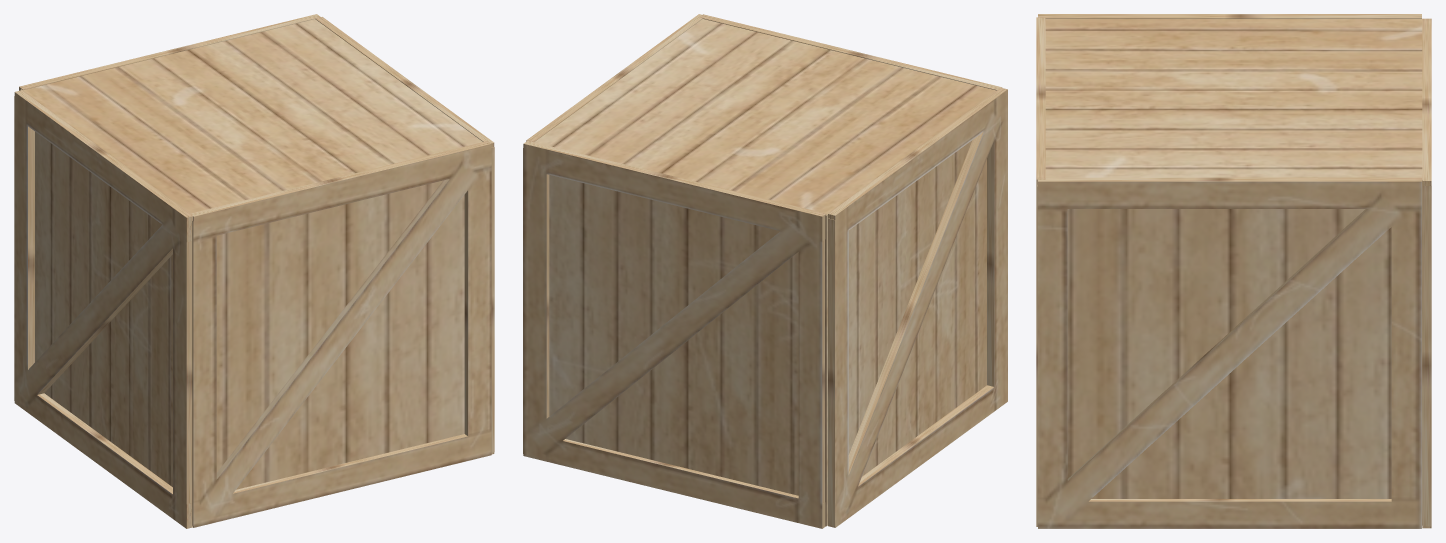
Rendered from Crate.fbx.
3 renders of one model, left to right at view 1: azimuth 30°, elevation 25°; view 2: azimuth 150°, elevation 25°; view 3: azimuth 270°, elevation 25°, orthographic. The views are drawn at different scales.
Visible parts, largest first — view 1: side5; view 2: side5; view 3: side5.
Boxes of the visible parts, <box> form: side5: <box>14,14,494,528</box>; side5: <box>523,14,1007,528</box>; side5: <box>1036,14,1431,528</box>.
Size of the model in its own units: 3.28 by 3.17 by 3.26.
1 material, 1 textured.
